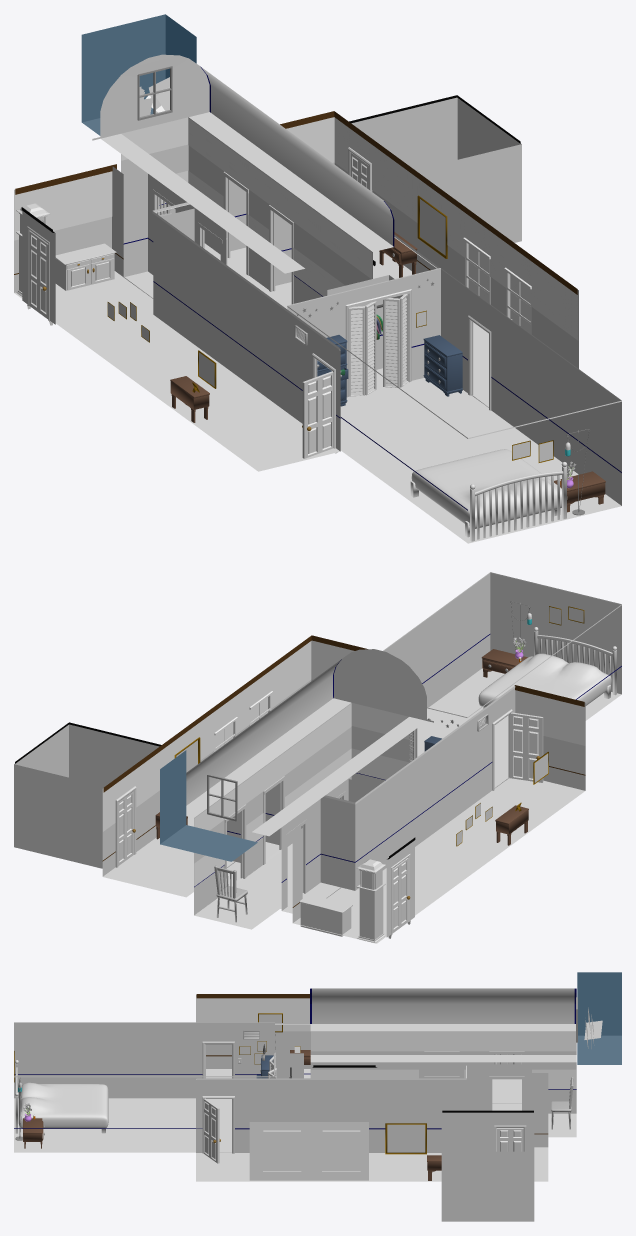
File: FNaF 4.glb
The picture shows the model from 3 angles, top to bottom: view 1: azimuth 30°, elevation 25°; view 2: azimuth 150°, elevation 25°; view 3: azimuth 270°, elevation 25°; orthographic projection. The views are drawn at different scales.
Parts seen in each view (by area): view 1: Bedroom; view 2: Bedroom; view 3: Bedroom.
Boxes of the visible parts, x1,y1,x2,y2 form: Bedroom: (14, 14, 621, 543); Bedroom: (14, 572, 621, 943); Bedroom: (14, 972, 621, 1221).
Bounding box in the file's own units: 11.27 × 4.91 × 18.74.
